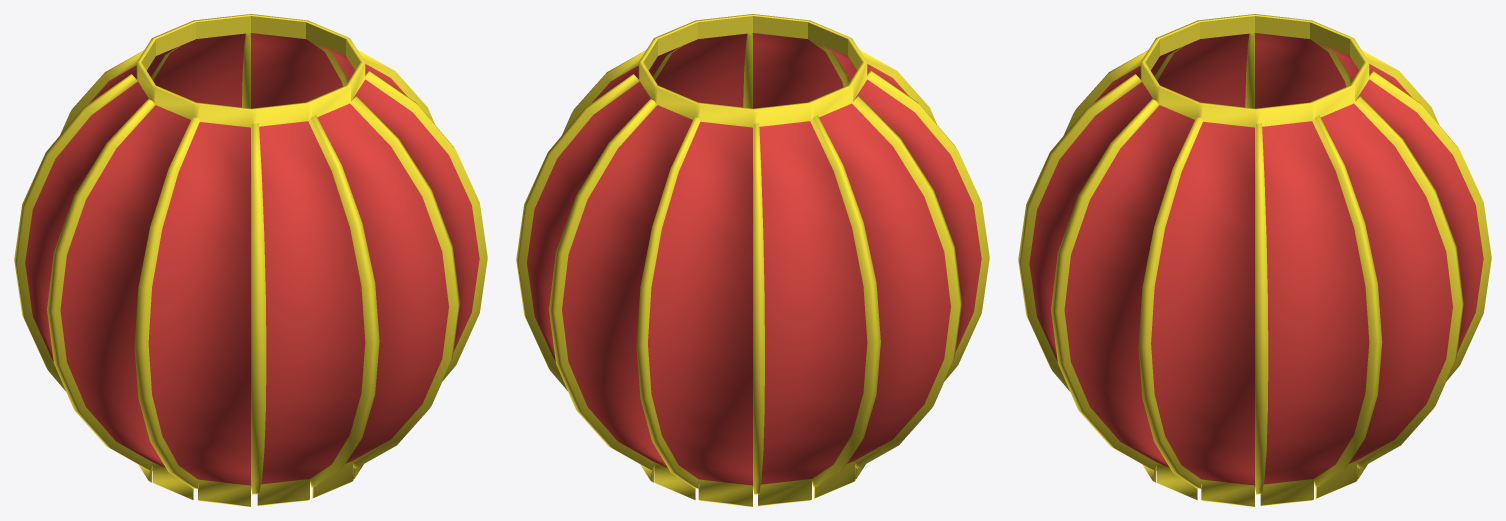
The model's file is lampion.fbx.
3 views of the same model, side by side, from view 1: azimuth 30°, elevation 25°; view 2: azimuth 150°, elevation 25°; view 3: azimuth 270°, elevation 25° (orthographic).
Parts seen in each view (by area): view 1: lampion; view 2: lampion; view 3: lampion.
Part boxes in pixels (x1,y1,x2,y2): lampion: [14, 14, 487, 506]; lampion: [516, 14, 989, 506]; lampion: [1018, 14, 1491, 506].
Bounding box in the file's own units: 54.9 × 50.68 × 54.9.
